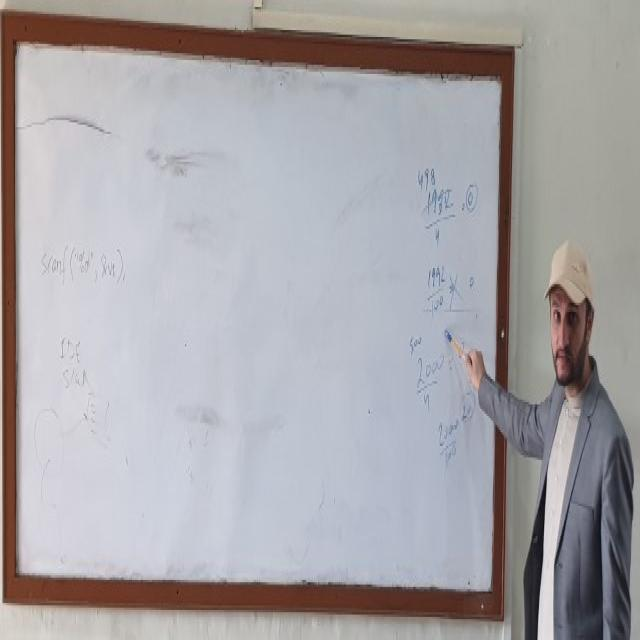Instructor: (510, 219, 635, 640)
White-board: (6, 29, 508, 607)
